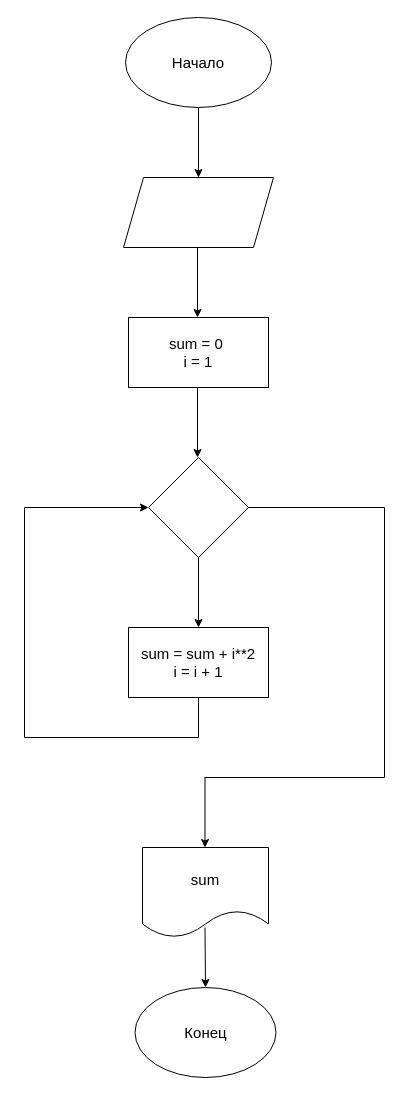
This 403x1095 diagram has some shape labels left out. The shapes that lost their labels are listed below. From the top down, each one's box as (x1, y1, x2, y2) in pixels, then its label:
(122, 176, 274, 248): input: N
(148, 456, 248, 558): i <= N
